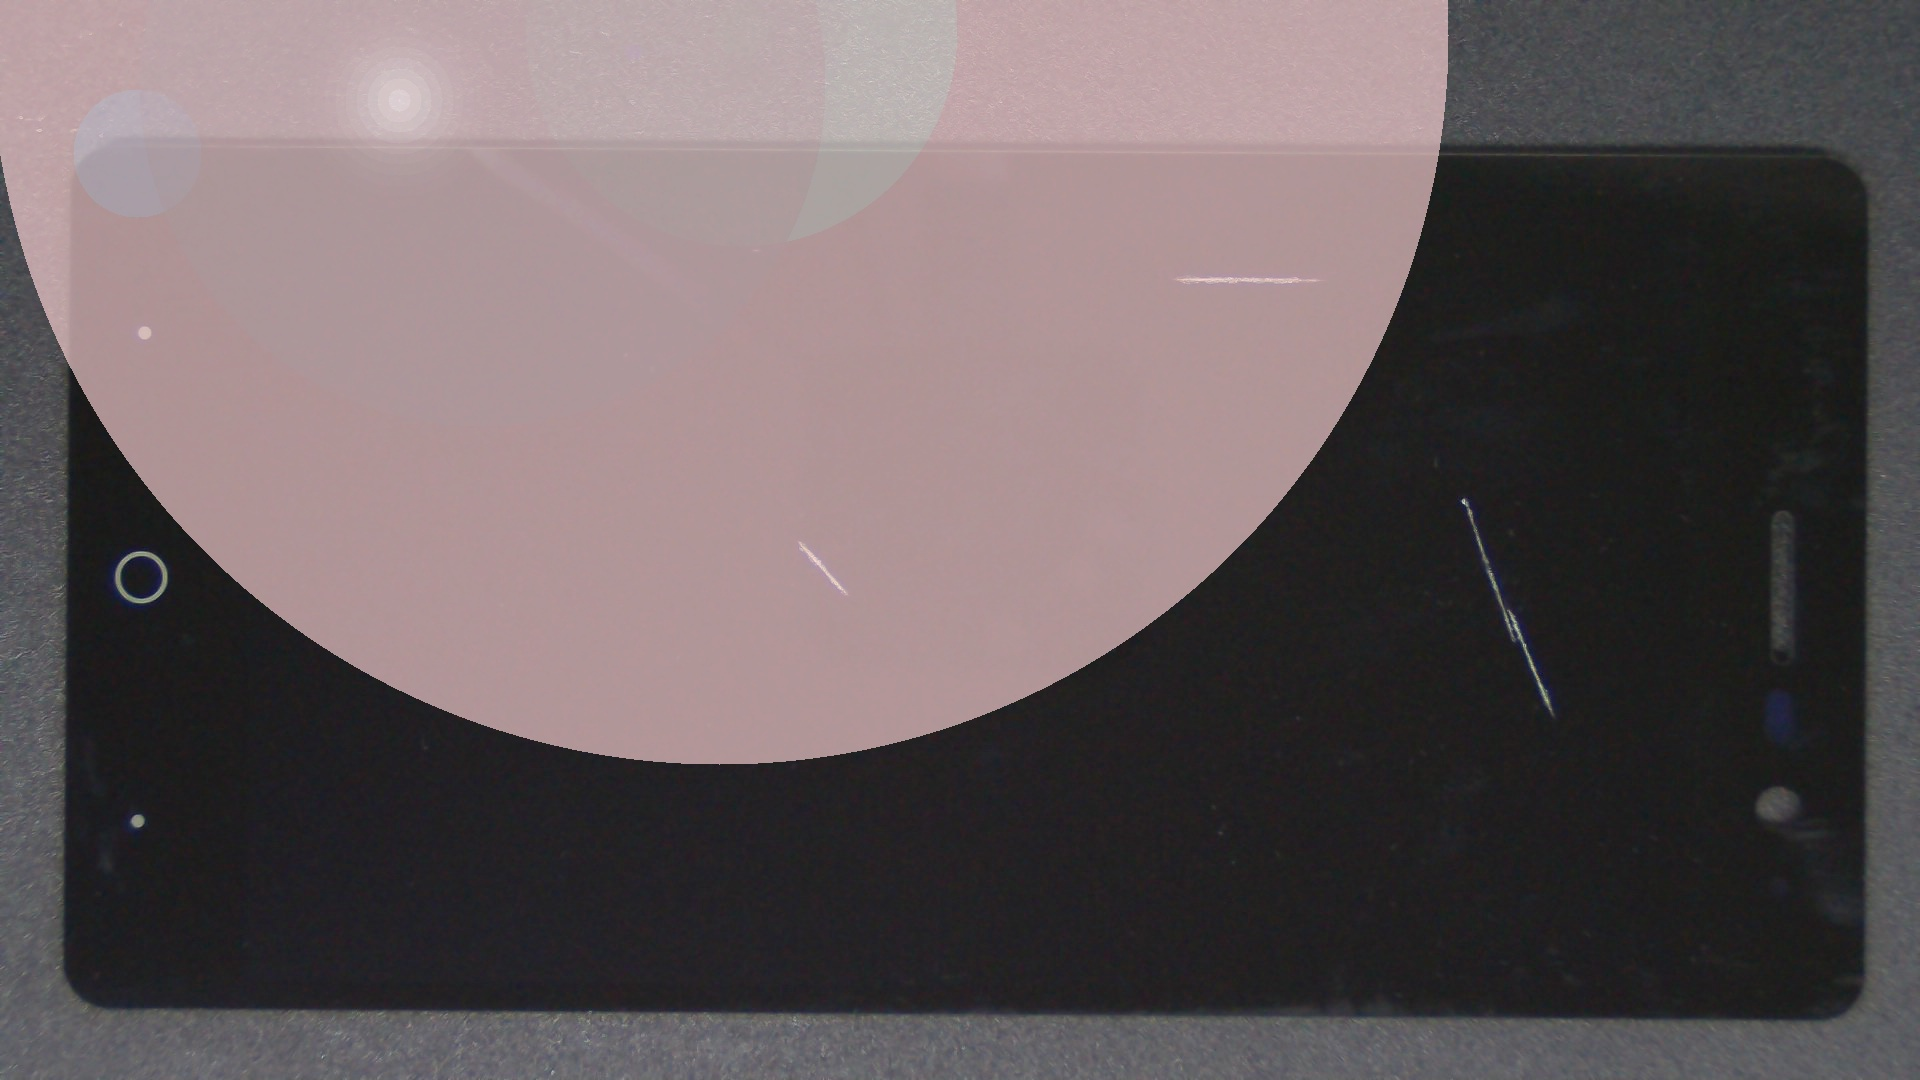oil: (732, 248, 1920, 745), (400, 269, 1196, 811), (596, 136, 1785, 410)
